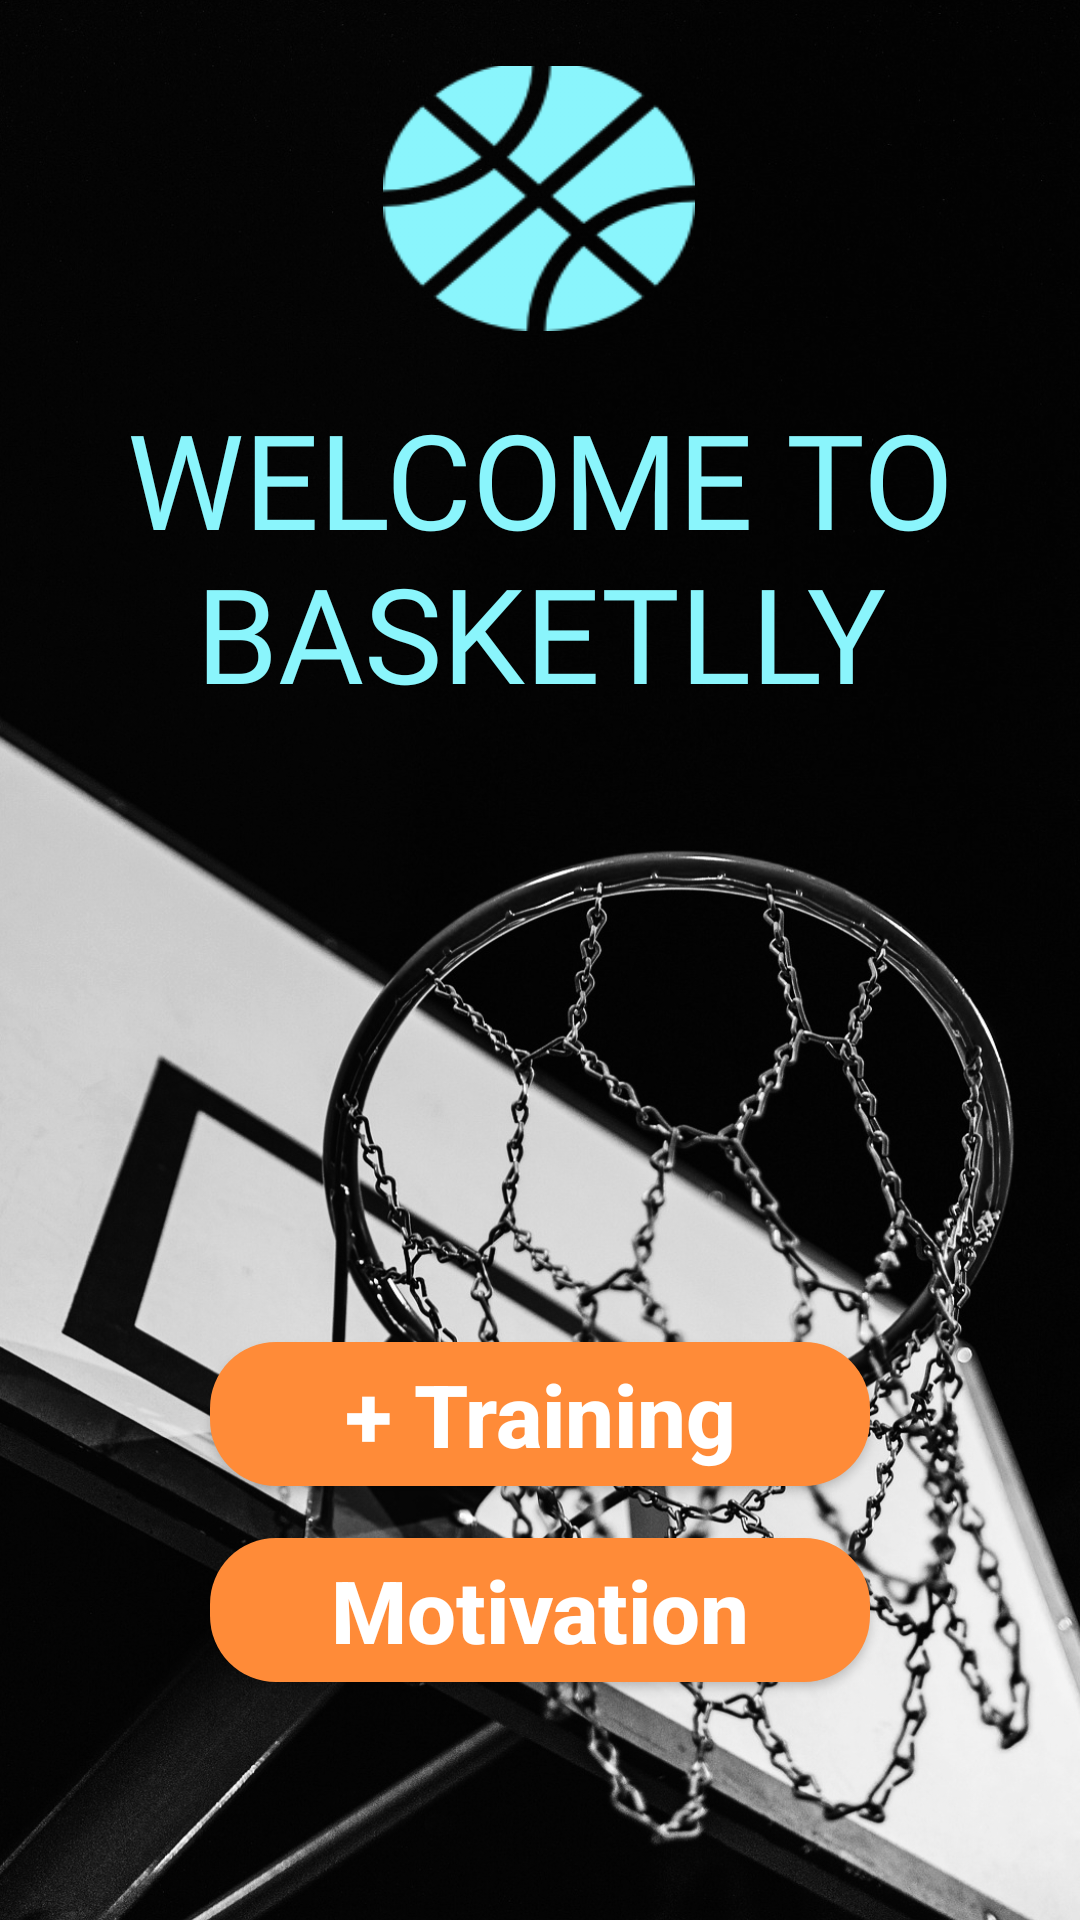

Where to tap for icons on this 1080 × 1920 app screen, as (x=x, y=y):
basketball: (x=539, y=198)
